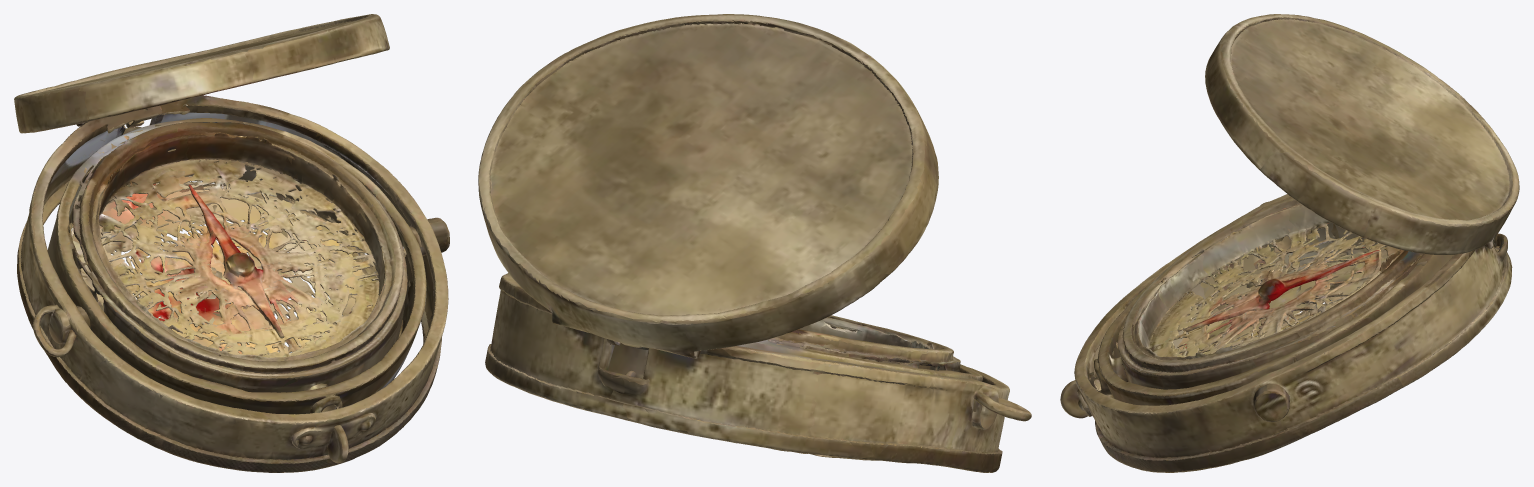
Rendered from item_compass.glb.
3 renders of one model, left to right at view 1: azimuth 30°, elevation 25°; view 2: azimuth 150°, elevation 25°; view 3: azimuth 270°, elevation 25°, orthographic. The views are drawn at different scales.
Visible parts, largest first — view 1: geometry_0; view 2: geometry_0; view 3: geometry_0.
Part boxes in pixels (x1,y1,x2,y2): geometry_0: [14, 14, 449, 472]; geometry_0: [478, 14, 1031, 472]; geometry_0: [1060, 14, 1519, 472].
Bounding box in the file's own units: 0.065 × 0.0574 × 0.0629.
1 material, 1 textured.
